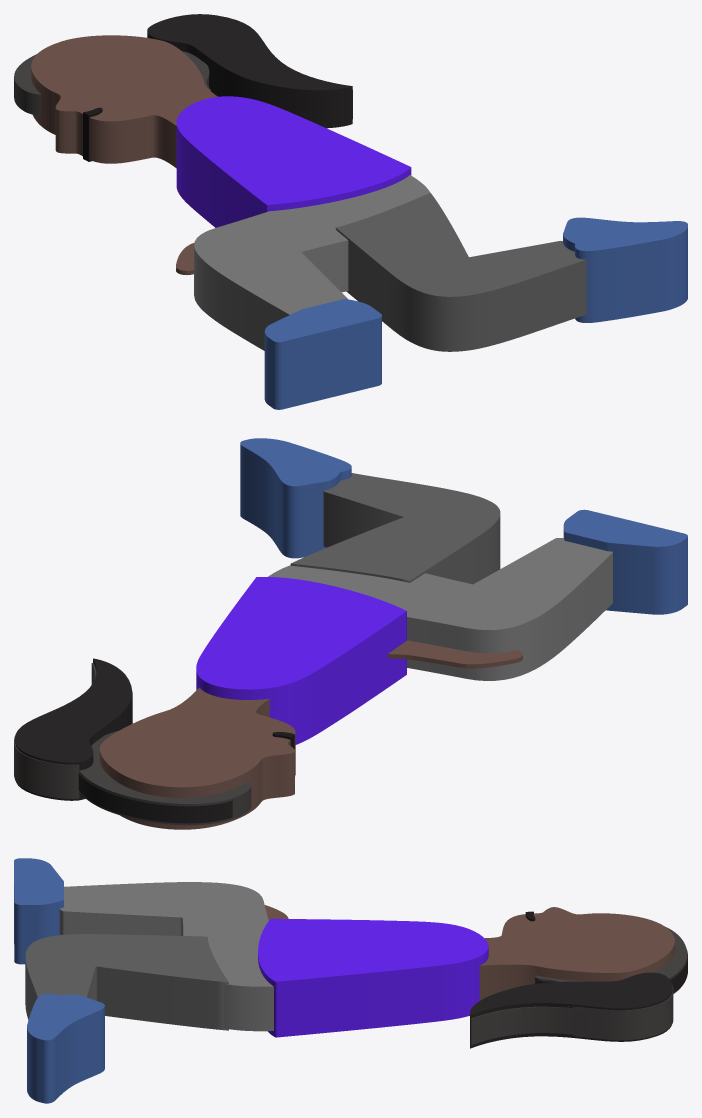
Rendered from emoji_u1f9ce_1f3ff_200d_2640.glb.
3 renders of one model, top to bottom at view 1: azimuth 30°, elevation 25°; view 2: azimuth 150°, elevation 25°; view 3: azimuth 270°, elevation 25°, orthographic. The views are drawn at different scales.
Visible parts, largest first — view 1: emoji_u1f9ce_1f3ff_200d_2640; view 2: emoji_u1f9ce_1f3ff_200d_2640; view 3: emoji_u1f9ce_1f3ff_200d_2640.
Part boxes in pixels (x1,y1,x2,y2): emoji_u1f9ce_1f3ff_200d_2640: (14, 14, 687, 409); emoji_u1f9ce_1f3ff_200d_2640: (14, 438, 687, 829); emoji_u1f9ce_1f3ff_200d_2640: (14, 858, 687, 1103).
Size of the model in its own units: 0.0212 by 0.0034 by 0.0329.
